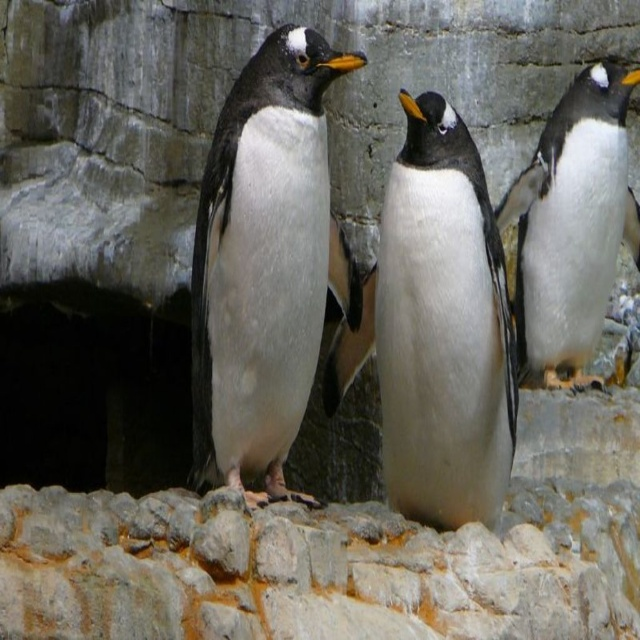Penguin: (322, 82, 525, 536), (187, 23, 370, 509), (489, 46, 639, 393)
